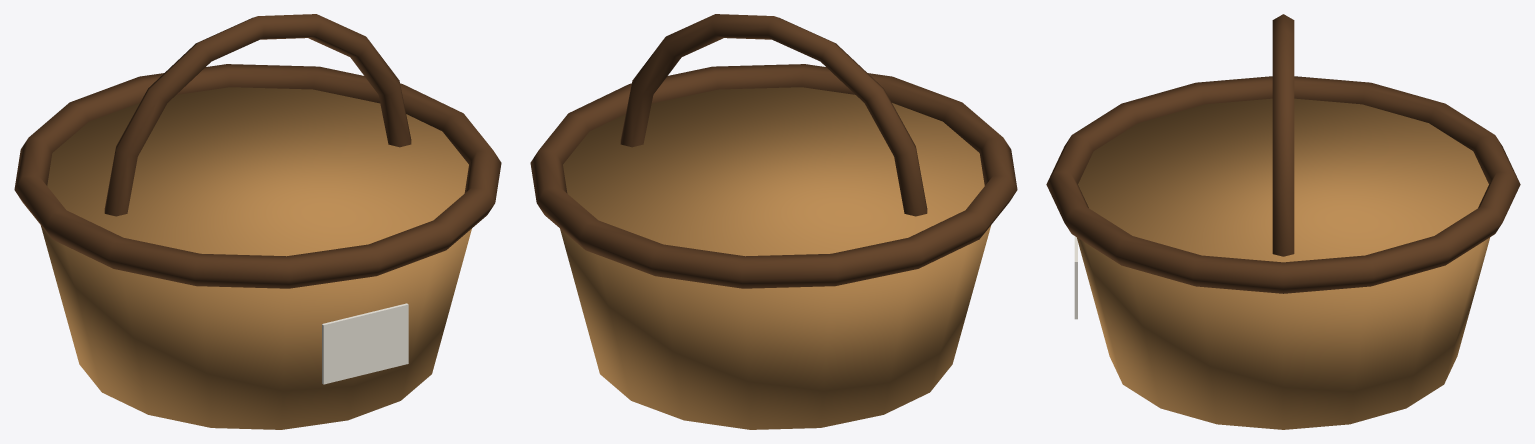
The model's file is product-basket.glb.
3 views of the same model, side by side, from view 1: azimuth 30°, elevation 25°; view 2: azimuth 150°, elevation 25°; view 3: azimuth 270°, elevation 25° (orthographic). The views are drawn at different scales.
Parts seen in each view (by area): view 1: Basket, Rim, Handle, Label; view 2: Basket, Rim, Handle; view 3: Basket, Rim, Handle.
Boxes of the visible parts, <box> form: Basket: <box>40,87,471,429</box>; Rim: <box>14,64,501,288</box>; Handle: <box>104,14,411,216</box>; Label: <box>322,303,408,384</box>; Basket: <box>560,87,991,429</box>; Rim: <box>530,64,1017,288</box>; Handle: <box>620,14,927,216</box>; Basket: <box>1077,98,1489,429</box>; Rim: <box>1046,76,1520,293</box>; Handle: <box>1272,14,1294,256</box>.
Bounding box in the file's own units: 0.3 × 0.228 × 0.3.
